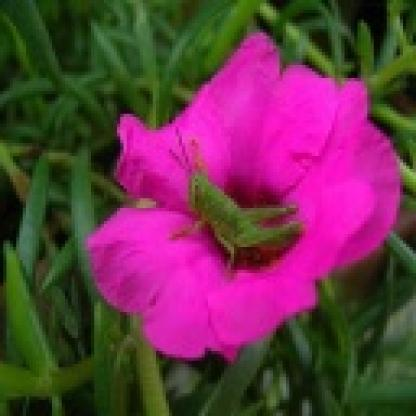grasshopper: (174, 146, 319, 284)
